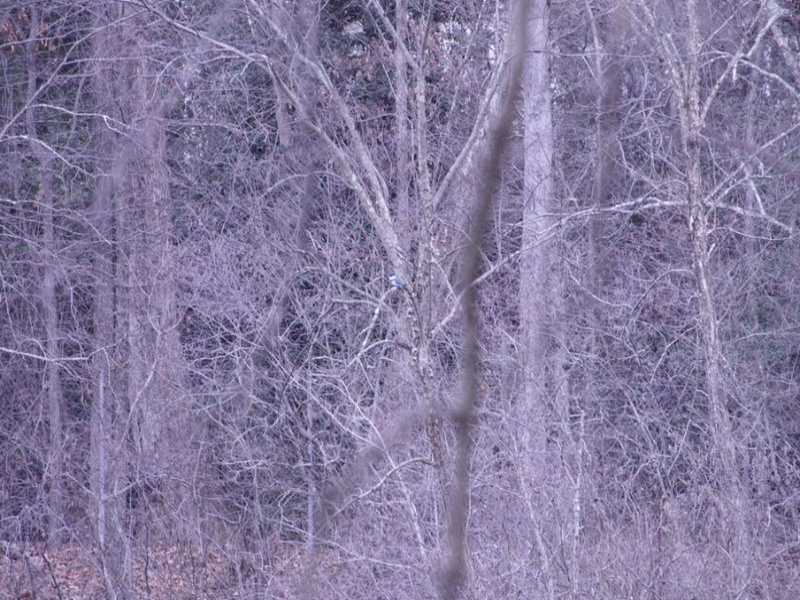kingfisher: (385, 268, 410, 292)
